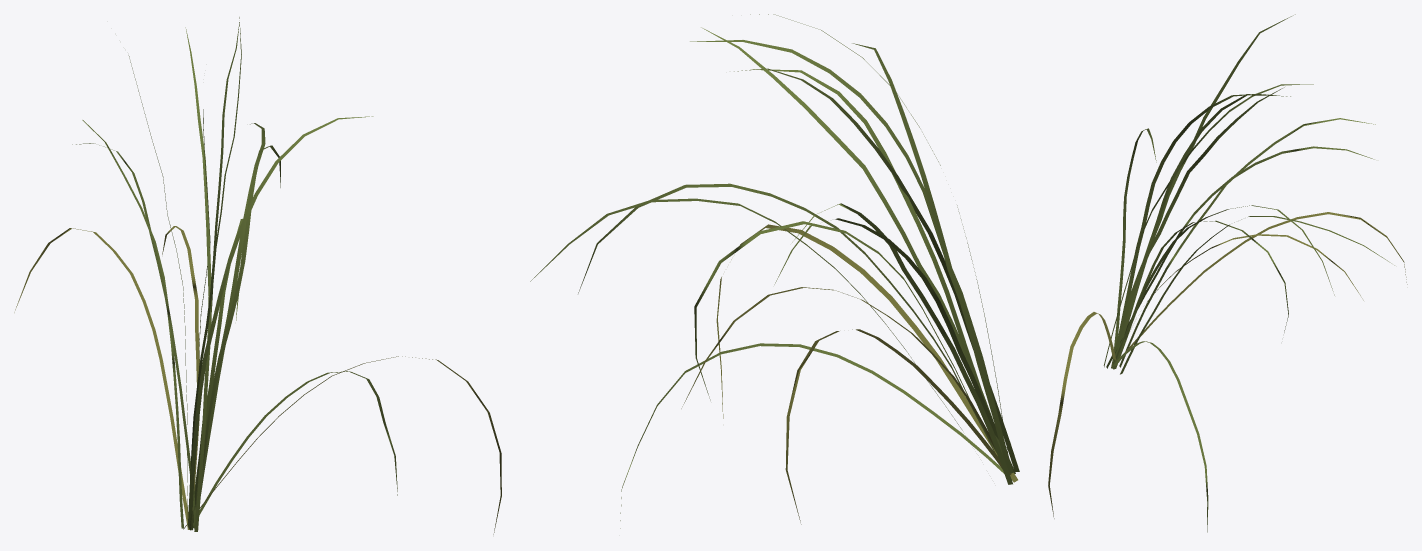
File: capim_3_longe.glb
The picture shows the model from 3 angles, left to right: view 1: azimuth 30°, elevation 25°; view 2: azimuth 150°, elevation 25°; view 3: azimuth 270°, elevation 25°; orthographic projection. The views are drawn at different scales.
Visible parts, largest first — view 1: capim_3_longe; view 2: capim_3_longe; view 3: capim_3_longe.
Boxes of the visible parts, x1=… form: capim_3_longe: x1=14, y1=17, x2=501, y2=534; capim_3_longe: x1=530, y1=14, x2=1019, y2=528; capim_3_longe: x1=1048, y1=14, x2=1407, y2=532.
Size of the model in its own units: 0.6928 by 1.17 by 0.9035.
